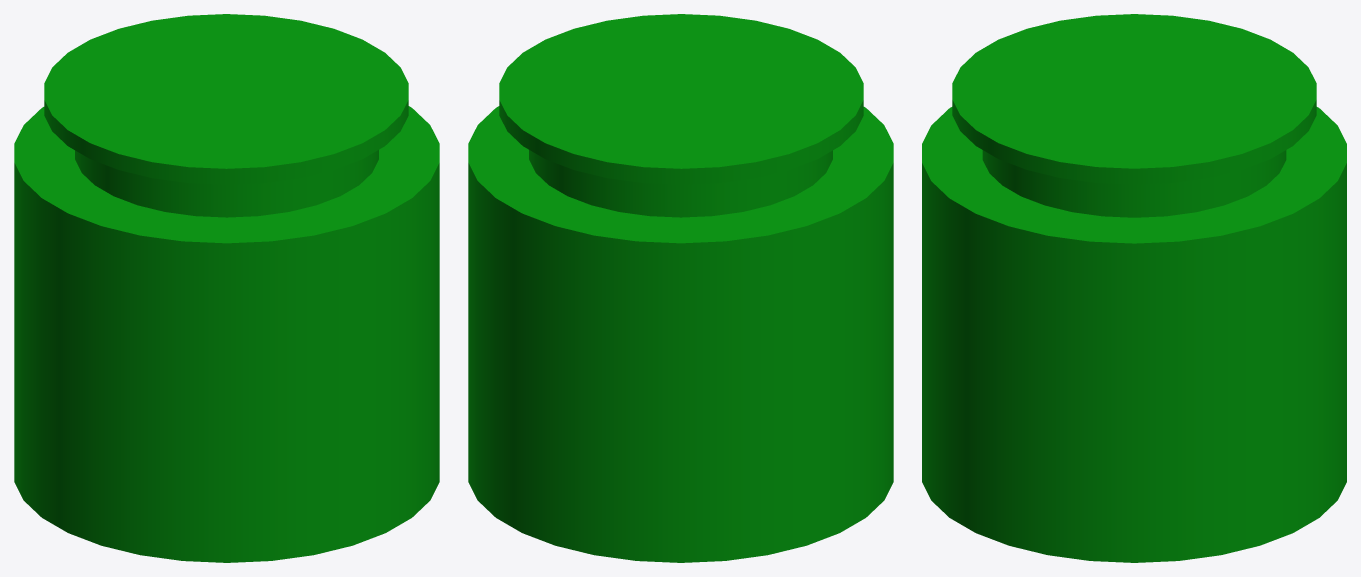
The model's file is Jar.obj.
3 renders of one model, left to right at view 1: azimuth 30°, elevation 25°; view 2: azimuth 150°, elevation 25°; view 3: azimuth 270°, elevation 25°, orthographic.
Parts seen in each view (by area): view 1: Jar; view 2: Jar; view 3: Jar.
Boxes of the visible parts, x1=… form: Jar: x1=14, y1=14, x2=439, y2=562; Jar: x1=468, y1=14, x2=893, y2=562; Jar: x1=922, y1=14, x2=1346, y2=562.
Bounding box in the file's own units: 1 × 0.9842 × 0.9945.
